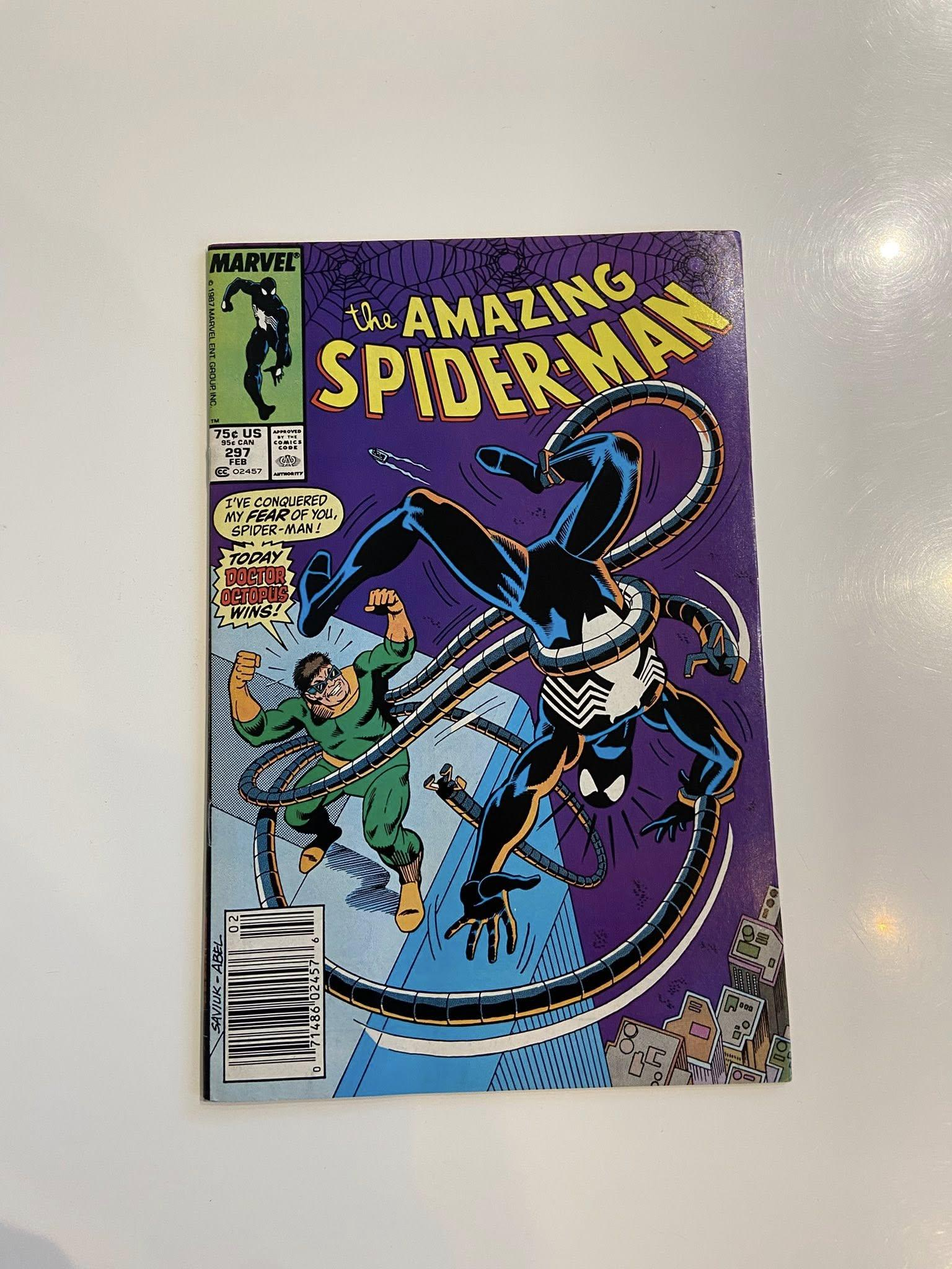comic: (184, 231, 791, 1101)
